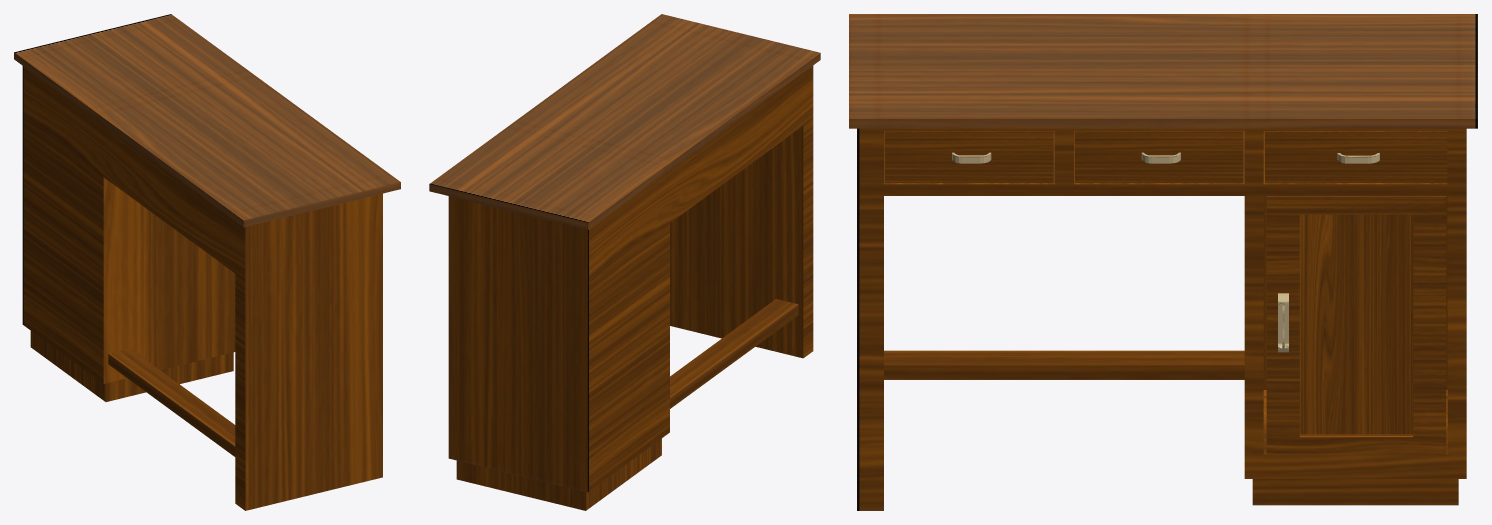
The model's file is woody_desk.fbx.
3 renders of one model, left to right at view 1: azimuth 30°, elevation 25°; view 2: azimuth 150°, elevation 25°; view 3: azimuth 270°, elevation 25°, orthographic. The views are drawn at different scales.
Visible parts, largest first — view 1: Cube; view 2: Cube; view 3: Cube, 立方体.003, 立方体.002, 立方体, 立方体.001.
Boxes of the visible parts, x1,y1,x2,y2 form: Cube: (14,14,400,510); Cube: (429,14,820,510); Cube: (849,14,1477,510); 立方体.003: (1266,196,1446,455); 立方体.002: (1265,131,1447,182); 立方体: (885,131,1053,182); 立方体.001: (1075,131,1243,182).
Size of the model in its own units: 584 by 1042 by 1478.
3 materials, 3 textured.
